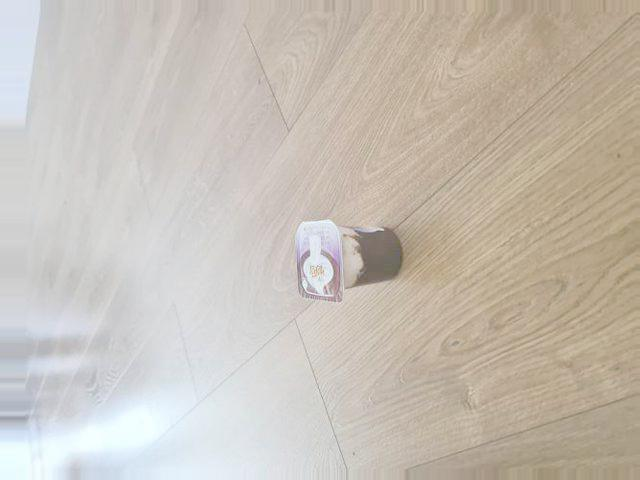milky: (294, 219, 404, 298)
